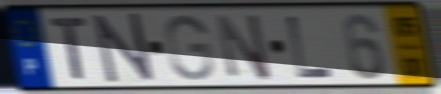6: (341, 11, 387, 82)
G: (162, 13, 216, 83)
L: (284, 13, 337, 81)
N: (91, 11, 158, 86), (213, 12, 274, 83)
T: (47, 15, 90, 82)
